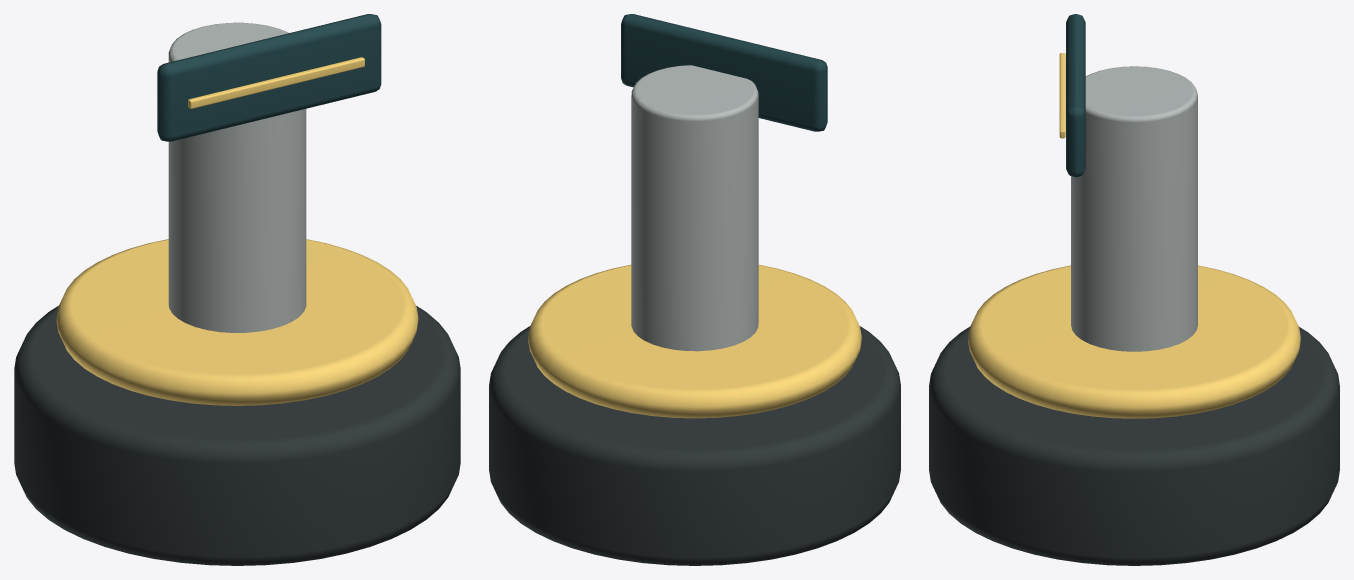
File: age_museum_color_orb_pedestal.glb
3 views of the same model, side by side, from view 1: azimuth 30°, elevation 25°; view 2: azimuth 150°, elevation 25°; view 3: azimuth 270°, elevation 25° (orthographic). The views are drawn at different scales.
Parts seen in each view (by area): view 1: age_museum_color_orb_pedestal_round_black_base, age_museum_color_orb_pedestal_old_gold_support_ring, age_museum_color_orb_pedestal_pedestal_stem, age_museum_color_orb_pedestal_hit_target_plate, age_museum_color_orb_pedestal_small_pickup_exposure_gold_lin; view 2: age_museum_color_orb_pedestal_round_black_base, age_museum_color_orb_pedestal_pedestal_stem, age_museum_color_orb_pedestal_old_gold_support_ring, age_museum_color_orb_pedestal_hit_target_plate; view 3: age_museum_color_orb_pedestal_round_black_base, age_museum_color_orb_pedestal_pedestal_stem, age_museum_color_orb_pedestal_old_gold_support_ring, age_museum_color_orb_pedestal_hit_target_plate, age_museum_color_orb_pedestal_small_pickup_exposure_gold_lin.
Boxes of the visible parts, bbox=[...] form: age_museum_color_orb_pedestal_round_black_base: bbox=[14, 306, 460, 565]; age_museum_color_orb_pedestal_old_gold_support_ring: bbox=[56, 239, 418, 405]; age_museum_color_orb_pedestal_pedestal_stem: bbox=[168, 22, 306, 332]; age_museum_color_orb_pedestal_hit_target_plate: bbox=[157, 14, 381, 141]; age_museum_color_orb_pedestal_small_pickup_exposure_gold_lin: bbox=[188, 57, 364, 108]; age_museum_color_orb_pedestal_round_black_base: bbox=[489, 326, 900, 565]; age_museum_color_orb_pedestal_pedestal_stem: bbox=[631, 65, 758, 351]; age_museum_color_orb_pedestal_old_gold_support_ring: bbox=[528, 264, 861, 418]; age_museum_color_orb_pedestal_hit_target_plate: bbox=[621, 14, 827, 131]; age_museum_color_orb_pedestal_round_black_base: bbox=[929, 327, 1339, 565]; age_museum_color_orb_pedestal_pedestal_stem: bbox=[1071, 66, 1197, 351]; age_museum_color_orb_pedestal_old_gold_support_ring: bbox=[968, 265, 1300, 418]; age_museum_color_orb_pedestal_hit_target_plate: bbox=[1066, 14, 1085, 177]; age_museum_color_orb_pedestal_small_pickup_exposure_gold_lin: bbox=[1059, 53, 1065, 138].
Size of the model in its own units: 0.84 by 0.96 by 0.84.
